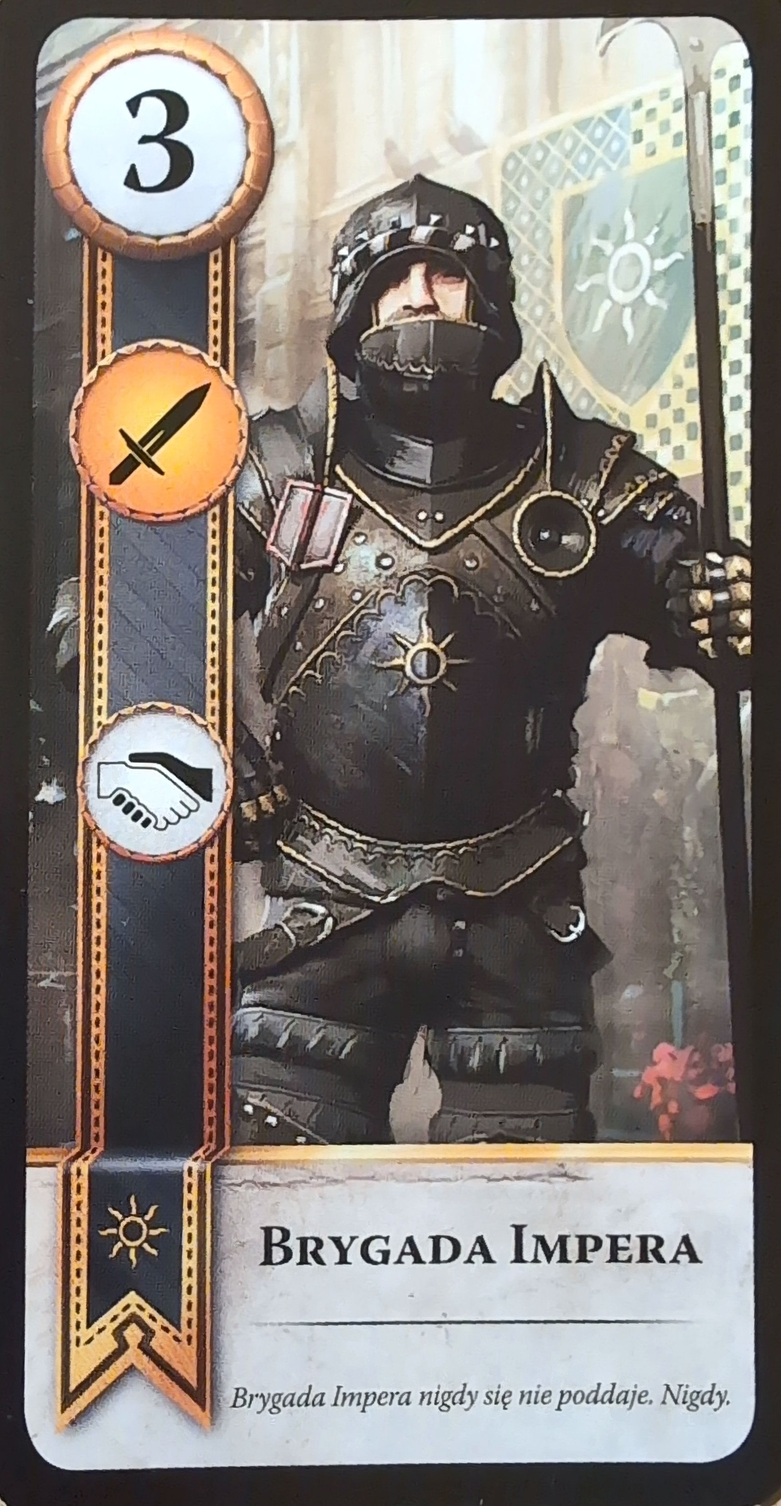3: (44, 33, 277, 261)
miecz: (68, 336, 250, 525)
wiez: (79, 700, 237, 867)
